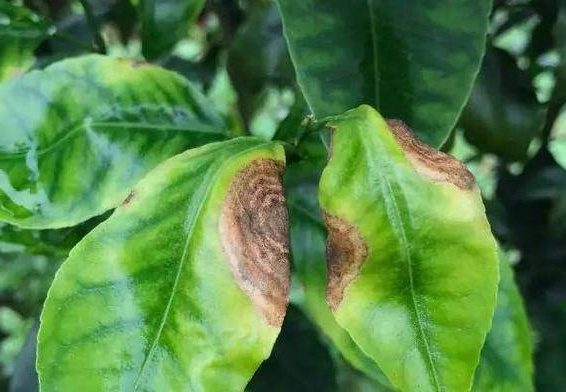Anthracnose: (211, 164, 289, 326), (380, 98, 479, 192), (314, 183, 370, 292)
